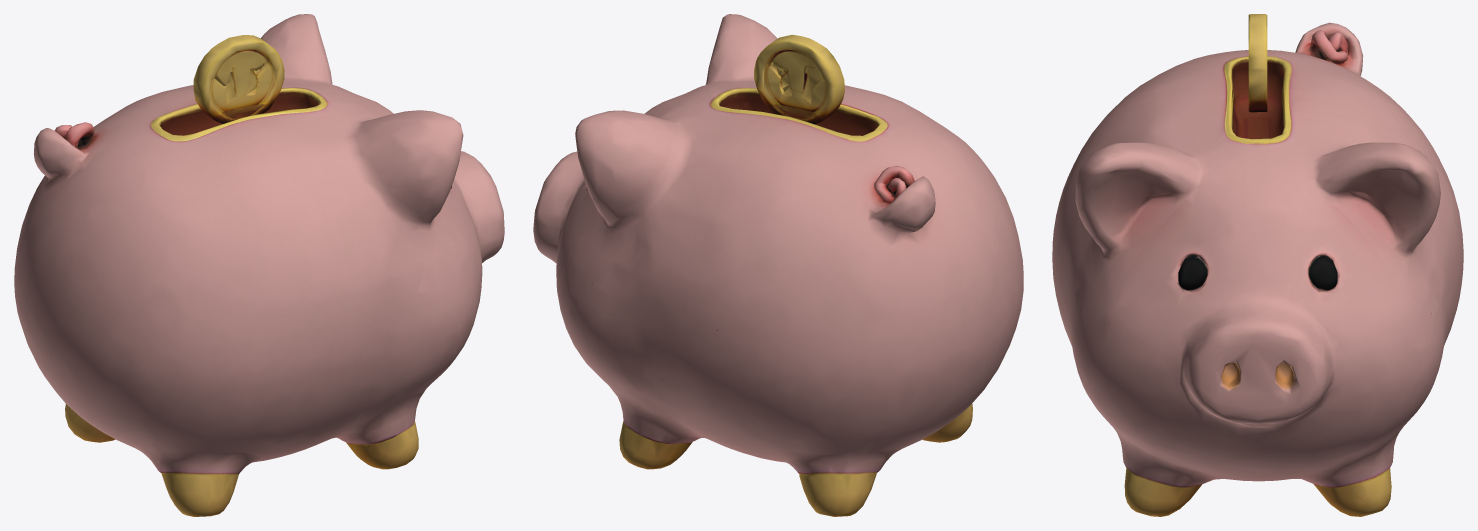
File: pink+piggy+bank+3d+model.glb
3 renders of one model, left to right at view 1: azimuth 30°, elevation 25°; view 2: azimuth 150°, elevation 25°; view 3: azimuth 270°, elevation 25°, orthographic. The views are drawn at different scales.
Visible parts, largest first — view 1: tripo_node_a330e346-a496-42b2-8642-9091c42d1b57; view 2: tripo_node_a330e346-a496-42b2-8642-9091c42d1b57; view 3: tripo_node_a330e346-a496-42b2-8642-9091c42d1b57.
Part boxes in pixels (box(x1,y1,x2,y2)): tripo_node_a330e346-a496-42b2-8642-9091c42d1b57: box(14, 14, 504, 516); tripo_node_a330e346-a496-42b2-8642-9091c42d1b57: box(533, 14, 1023, 516); tripo_node_a330e346-a496-42b2-8642-9091c42d1b57: box(1052, 14, 1463, 516).
Bounding box in the file's own units: 0.9803 × 0.8862 × 0.751.
1 material, 1 textured.
